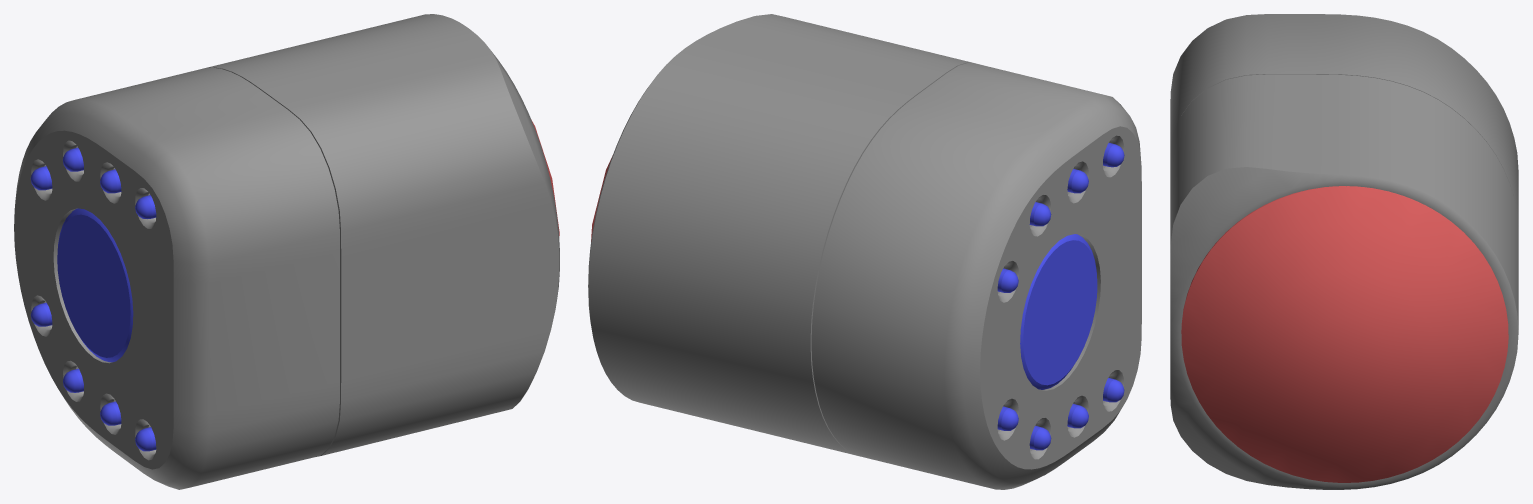
The model's file is Alt_v14.FBX.
The picture shows the model from 3 angles, left to right: view 1: azimuth 30°, elevation 25°; view 2: azimuth 150°, elevation 25°; view 3: azimuth 270°, elevation 25°; orthographic projection. The views are drawn at different scales.
Visible parts, largest first — view 1: Alt_body_back, Alt_body_front, Magnet, pin; view 2: Alt_body_back, Alt_body_front, Magnet, pin; view 3: lense_outer, Alt_body_front, Alt_body_back.
Part boxes in pixels (left/top/right/bottom): Alt_body_back: left=14, top=67, right=339, bottom=489; Alt_body_front: left=206, top=14, right=559, bottom=456; Magnet: left=57, top=208, right=133, bottom=362; pin: left=30, top=147, right=156, bottom=451; Alt_body_back: left=811, top=62, right=1141, bottom=489; Alt_body_front: left=588, top=14, right=975, bottom=456; Magnet: left=1020, top=234, right=1097, bottom=389; pin: left=997, top=142, right=1124, bottom=450; lense_outer: left=1181, top=186, right=1508, bottom=482; Alt_body_front: left=1170, top=74, right=1518, bottom=489; Alt_body_back: left=1170, top=14, right=1518, bottom=229.
Bounding box in the file's own units: 2.17 × 1.6 × 1.6.
